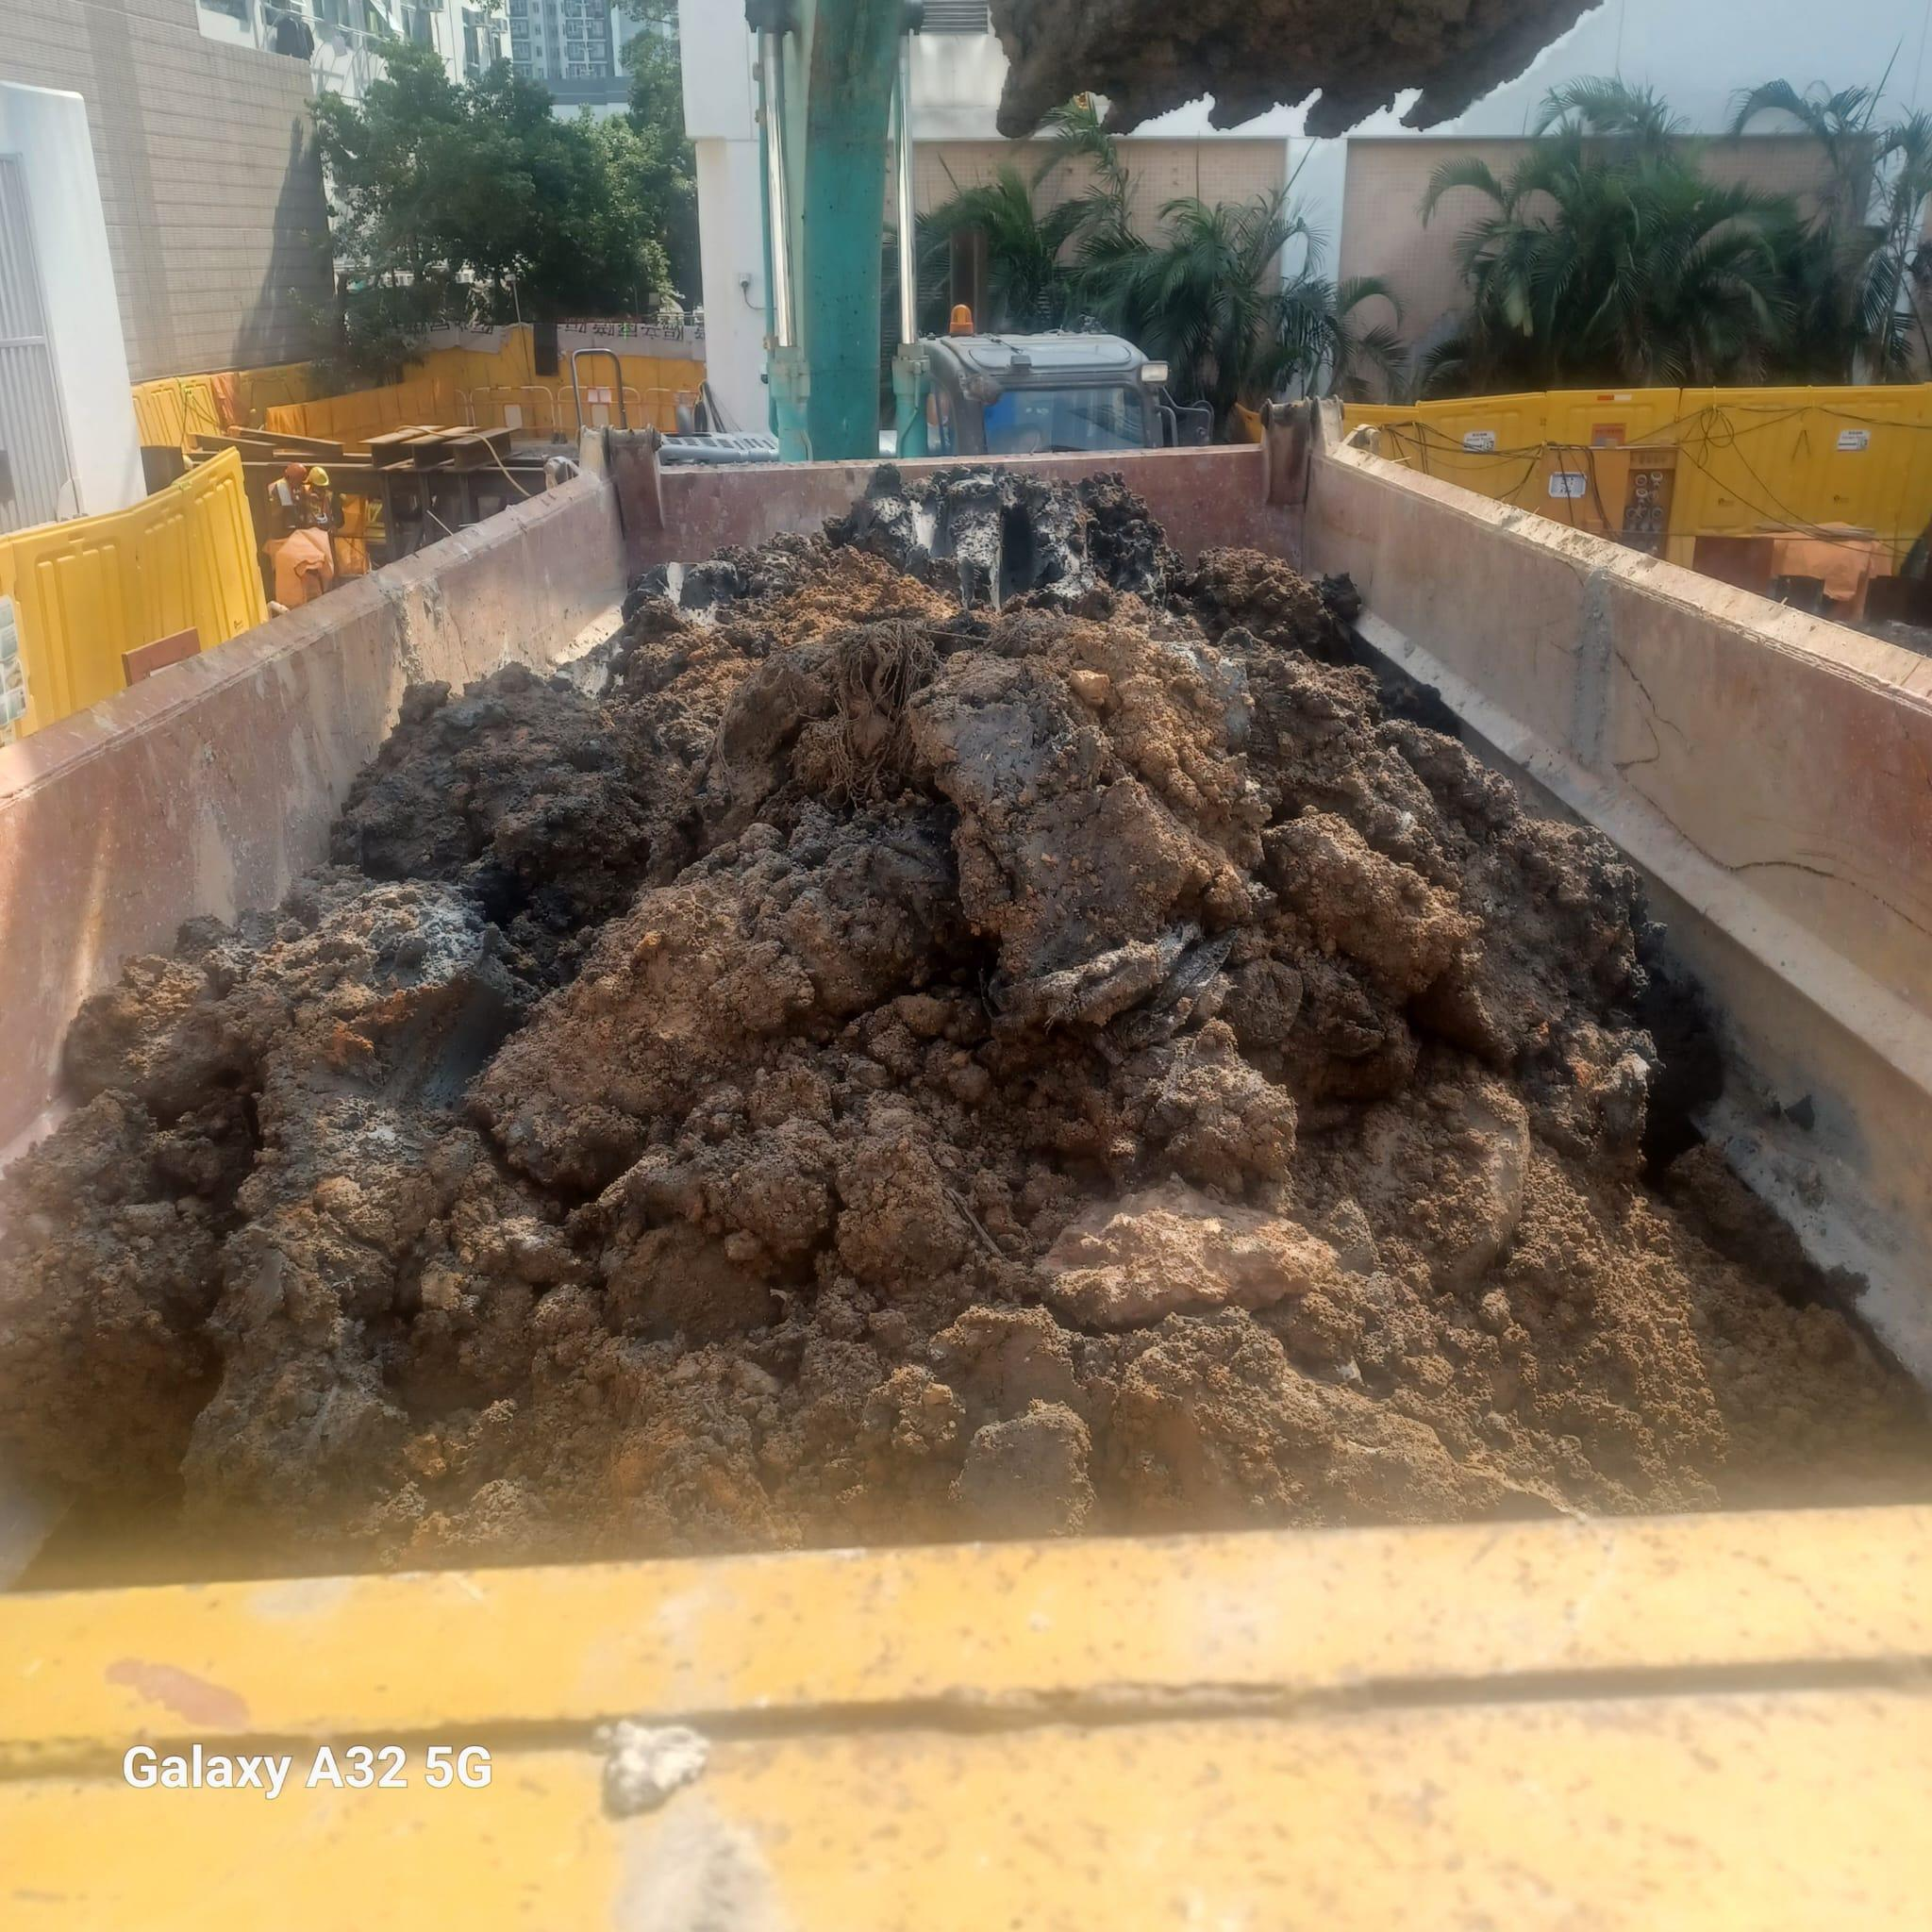wet: (64, 510, 1914, 1546)
